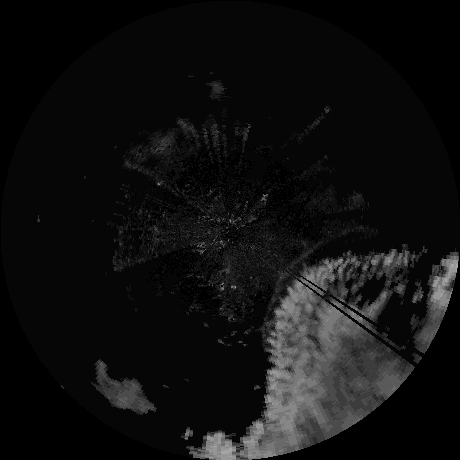frontgust: (270, 239, 321, 313)
